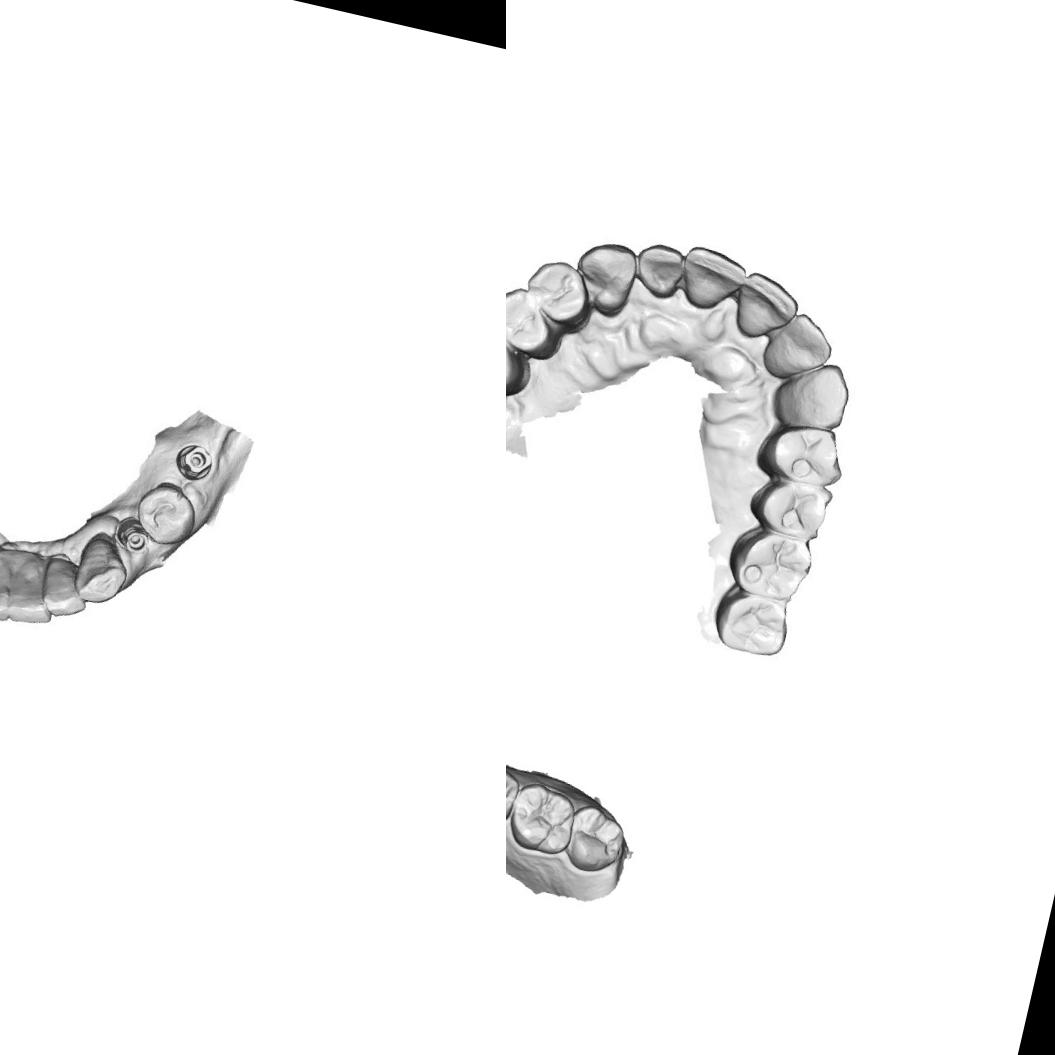canine: (764, 349, 859, 439), (570, 236, 642, 326), (69, 530, 138, 612)
implant: (168, 438, 224, 494), (107, 509, 157, 562)
incisor: (673, 242, 754, 324), (755, 310, 834, 390), (730, 270, 800, 345), (3, 548, 60, 634), (625, 237, 695, 307), (37, 550, 98, 628), (0, 548, 23, 626)
molar: (706, 574, 802, 664), (718, 518, 818, 604), (506, 777, 583, 859), (561, 800, 633, 879), (506, 307, 542, 409)
premolar: (509, 250, 604, 345), (749, 410, 853, 494), (742, 470, 839, 545), (506, 279, 575, 372), (134, 479, 198, 545), (506, 762, 524, 830)
